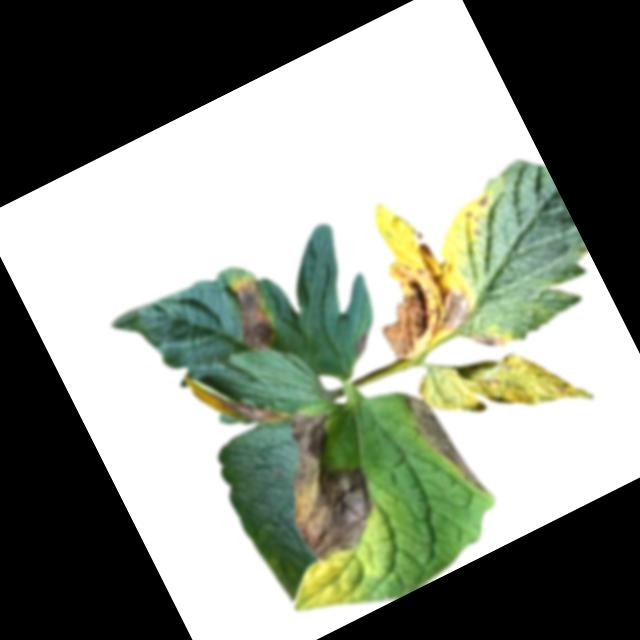Early_blight: (249, 394, 395, 567), (351, 230, 482, 363), (179, 342, 287, 450), (402, 381, 490, 505), (216, 267, 287, 354), (467, 320, 510, 361), (349, 327, 378, 356), (474, 190, 495, 212)
